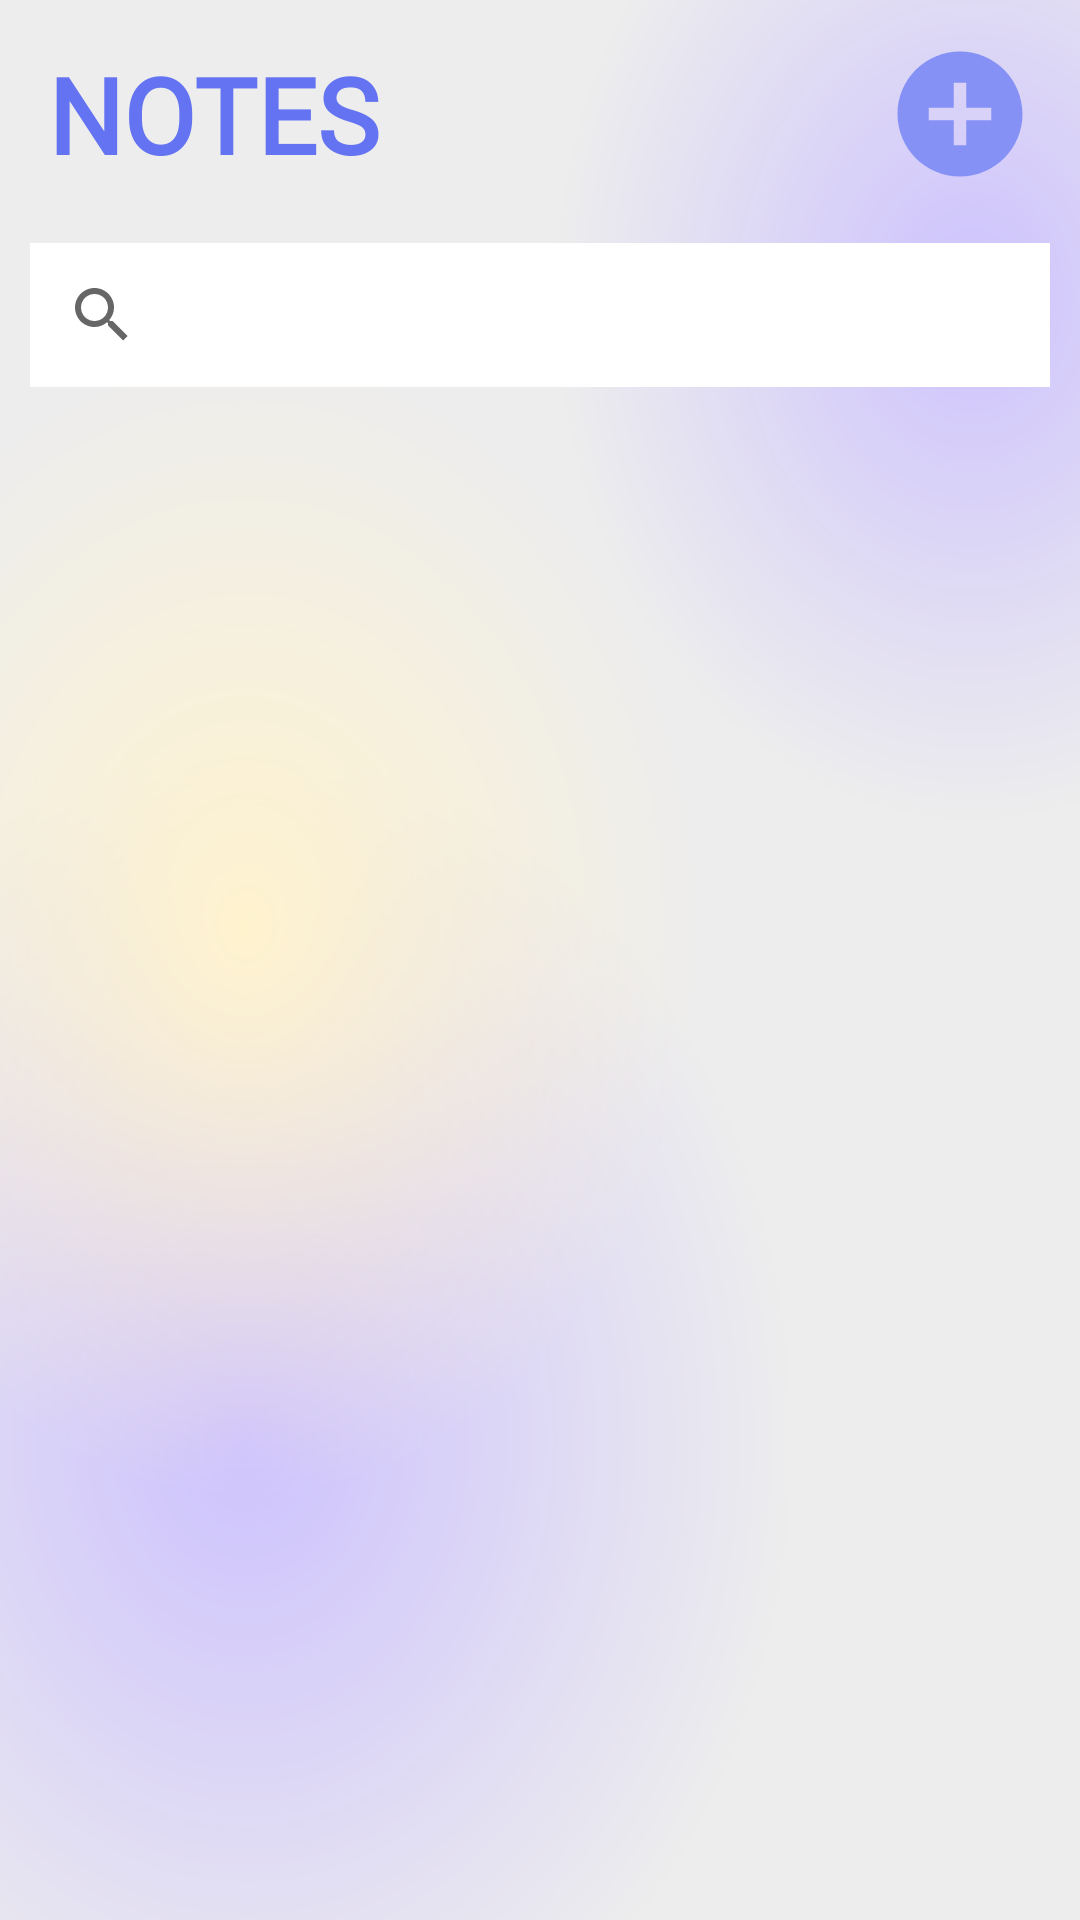

Where icons sit on this 1080*1920 app screen, as (x1, y1, x2, y2):
add circle: (897, 51, 1023, 177)
